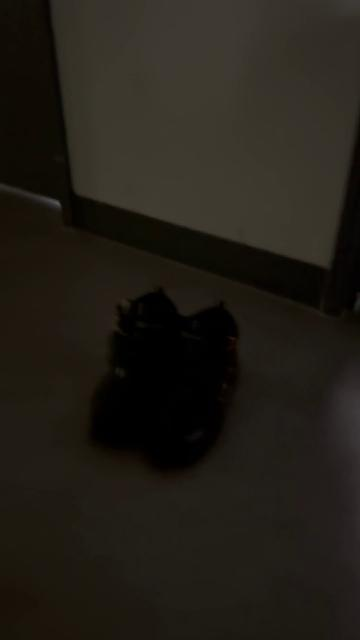shoe_worn: (143, 306, 249, 473), (90, 288, 178, 449)
